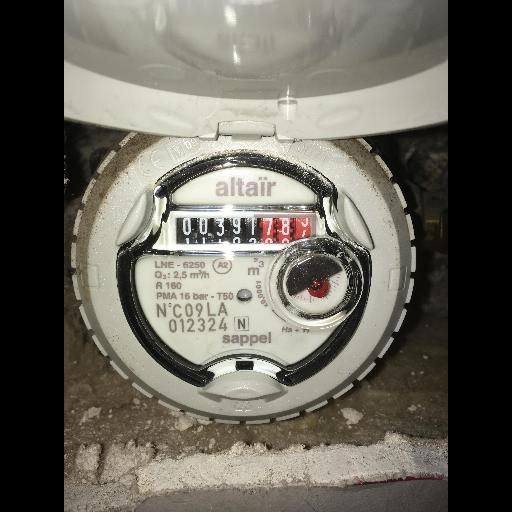0: (179, 217, 195, 245), (195, 218, 211, 245)
1: (245, 218, 260, 245)
3: (293, 217, 312, 241), (211, 218, 227, 245)
7: (260, 218, 277, 245)
8: (277, 216, 294, 244)
9: (228, 218, 245, 245)
border_water_meter_number: (173, 214, 318, 253)
